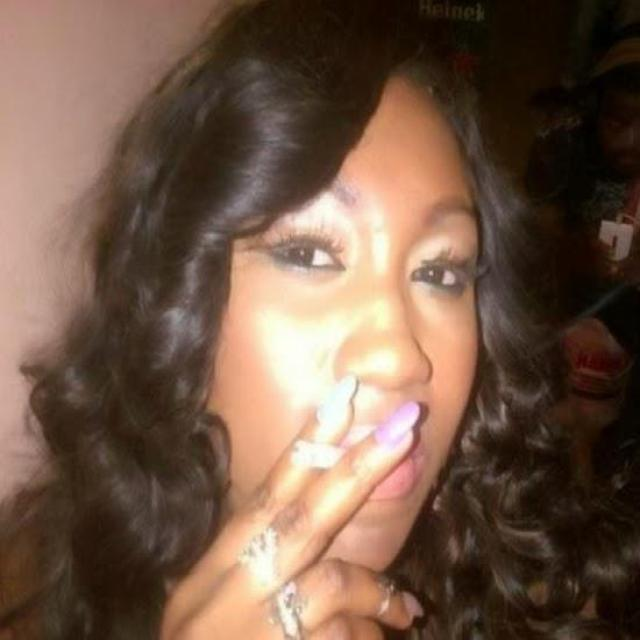cigarette: (263, 422, 378, 484)
